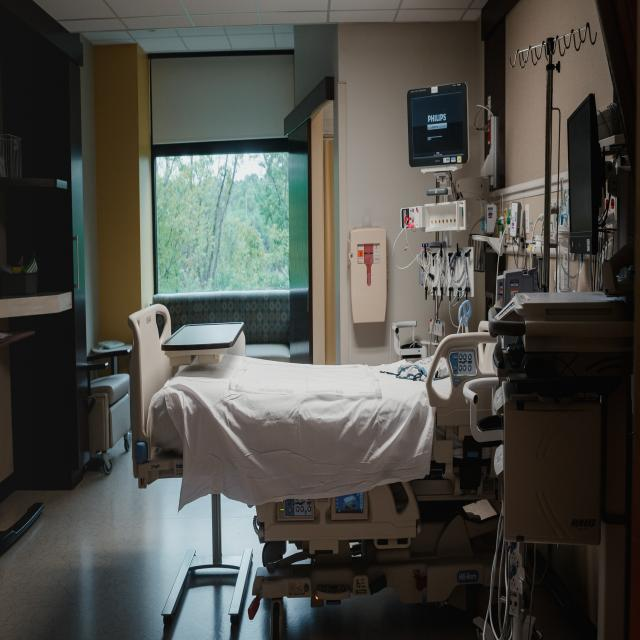cardiac_monitor: (564, 93, 615, 292), (408, 76, 471, 183)
patient_bed: (131, 301, 469, 511)
